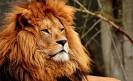lion: (5, 2, 96, 81)
